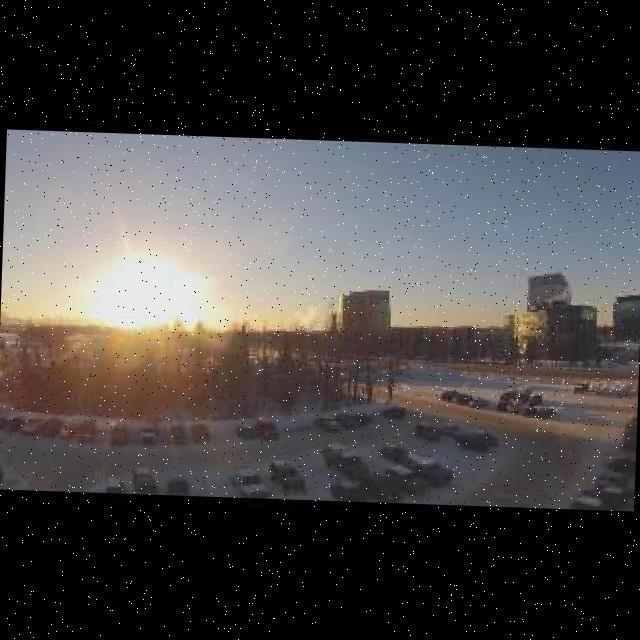Smoke: (545, 286, 576, 305)
